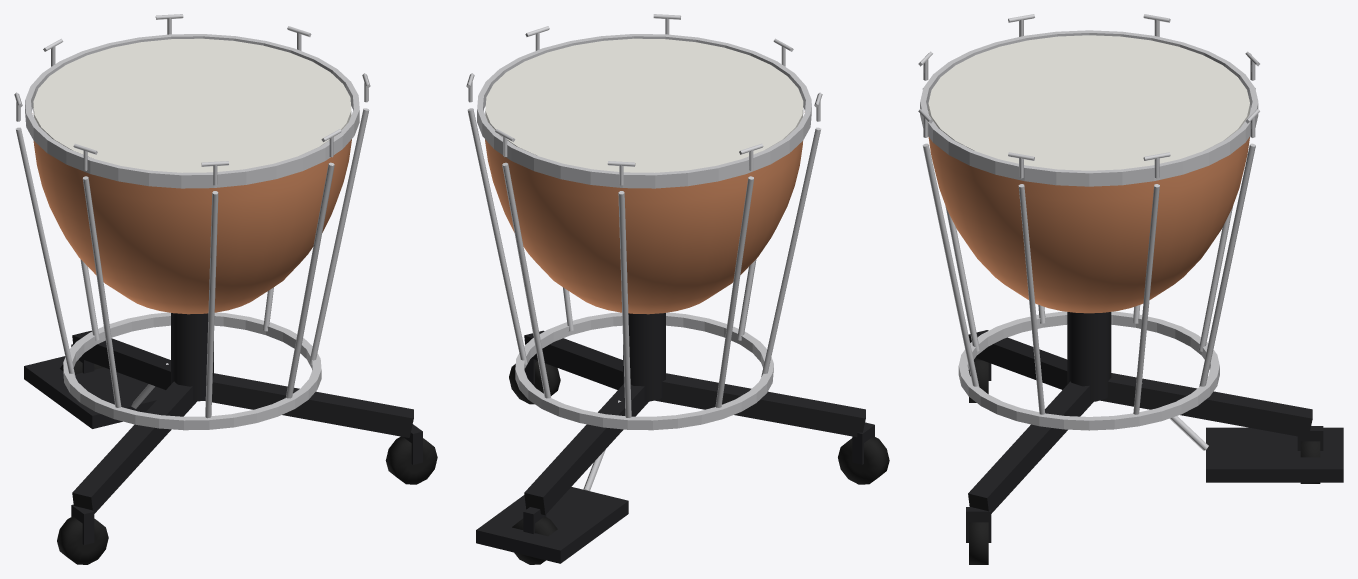
Rendered from timpani-26.glb.
3 views of the same model, side by side, from view 1: azimuth 30°, elevation 25°; view 2: azimuth 150°, elevation 25°; view 3: azimuth 270°, elevation 25° (orthographic).
Visible parts, largest first — view 1: head, copper, metal, frame, rubber; view 2: head, copper, metal, frame, rubber; view 3: head, copper, metal, frame, rubber.
Part boxes in pixels (bbox=[...]): head: bbox=[33, 38, 351, 172]; copper: bbox=[32, 113, 351, 314]; metal: bbox=[14, 14, 370, 430]; frame: bbox=[24, 313, 422, 544]; rubber: bbox=[57, 360, 437, 564]; head: bbox=[485, 38, 803, 172]; copper: bbox=[485, 112, 804, 314]; metal: bbox=[466, 14, 822, 491]; frame: bbox=[476, 313, 874, 563]; rubber: bbox=[509, 361, 889, 564]; head: bbox=[928, 35, 1249, 170]; copper: bbox=[928, 136, 1249, 313]; metal: bbox=[918, 14, 1259, 450]; frame: bbox=[966, 312, 1343, 542]; rubber: bbox=[969, 360, 1320, 564].
Bounding box in the file's own units: 0.8798 × 0.89 × 0.8659.
